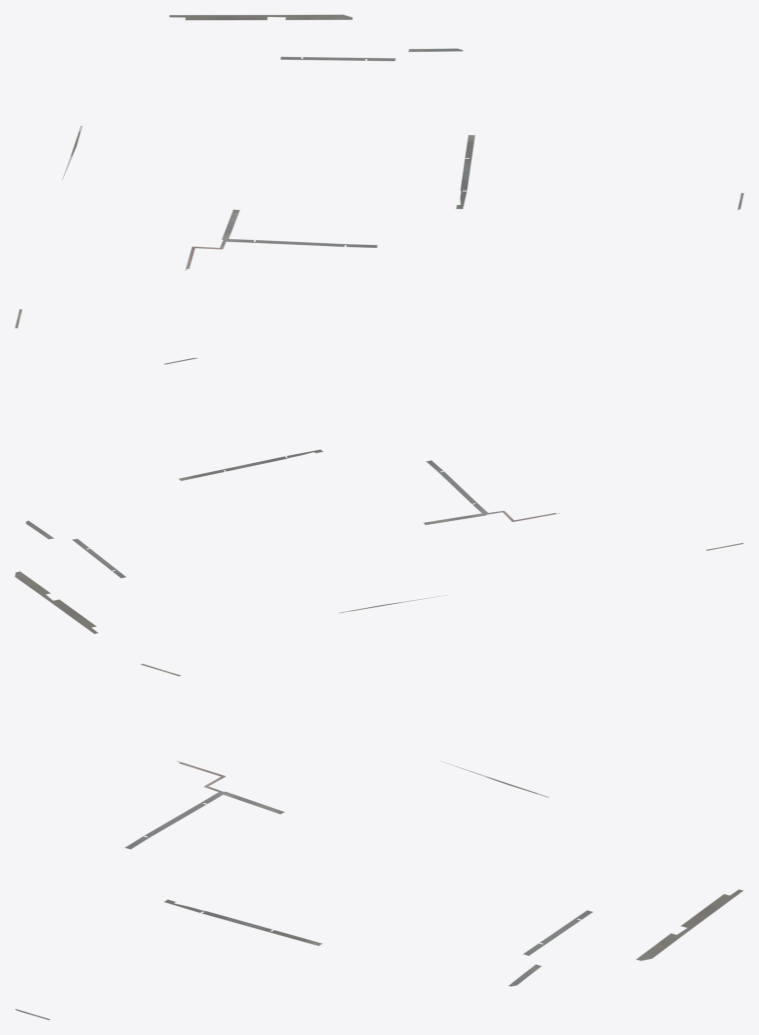
The picture shows the model from 3 angles, top to bottom: view 1: azimuth 30°, elevation 25°; view 2: azimuth 150°, elevation 25°; view 3: azimuth 270°, elevation 25°; orthographic projection. The views are drawn at different scales.
Visible parts, largest first — view 1: concrete, paving_stones; view 2: concrete, paving_stones; view 3: concrete, paving_stones.
Part boxes in pixels (left/top/right/bottom): concrete: left=185, top=48, right=743, bottom=270; paving_stones: left=15, top=14, right=352, bottom=328; concrete: left=25, top=358, right=559, bottom=578; paving_stones: left=14, top=543, right=743, bottom=633; concrete: left=15, top=761, right=592, bottom=1020; paving_stones: left=141, top=663, right=743, bottom=960.
Size of the model in its own units: 304 by 0.1068 by 263.
2 materials, 2 textured.
